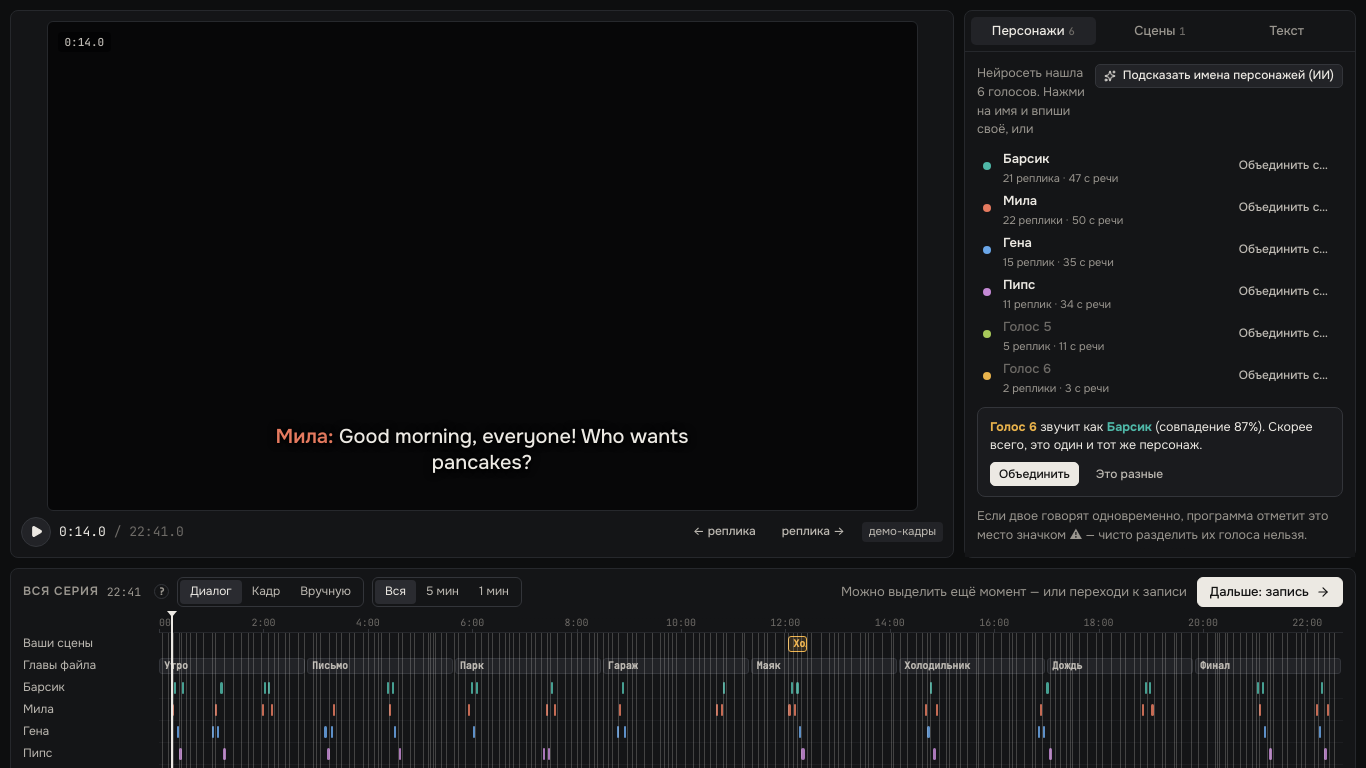
it: Разбор: создать сцену выделением › режим «Сцена» выделяет от склейки до склейки
This screenshot has width=1366, height=768.
Expected: the tab "Персонажи6" is shown, left=971, top=17, right=1096, bottom=45
Click the radio button labelled "Кадр": (266, 592) left=242, top=580, right=290, bottom=604
(page scrolled)
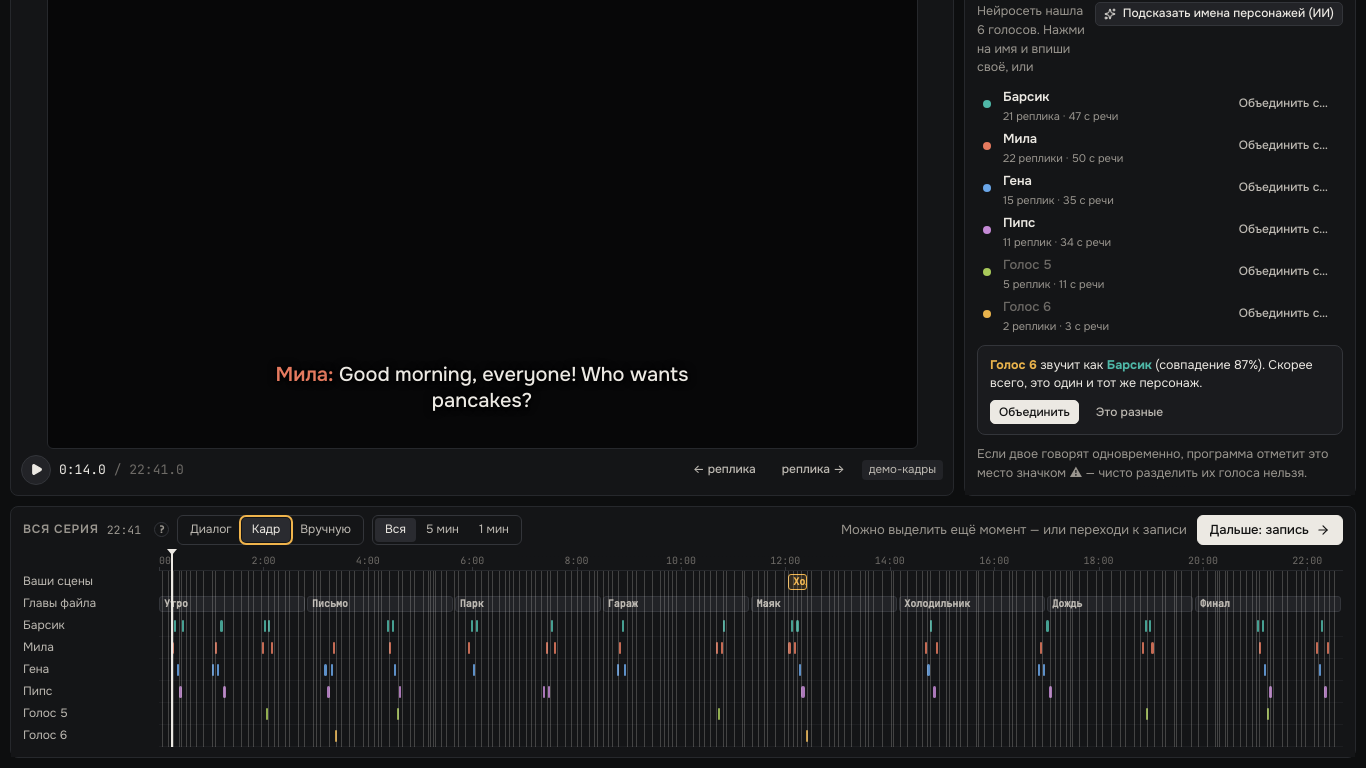
Press the mouse on the element named "Шкала видео": (751, 648) left=159, top=549, right=1343, bottom=747
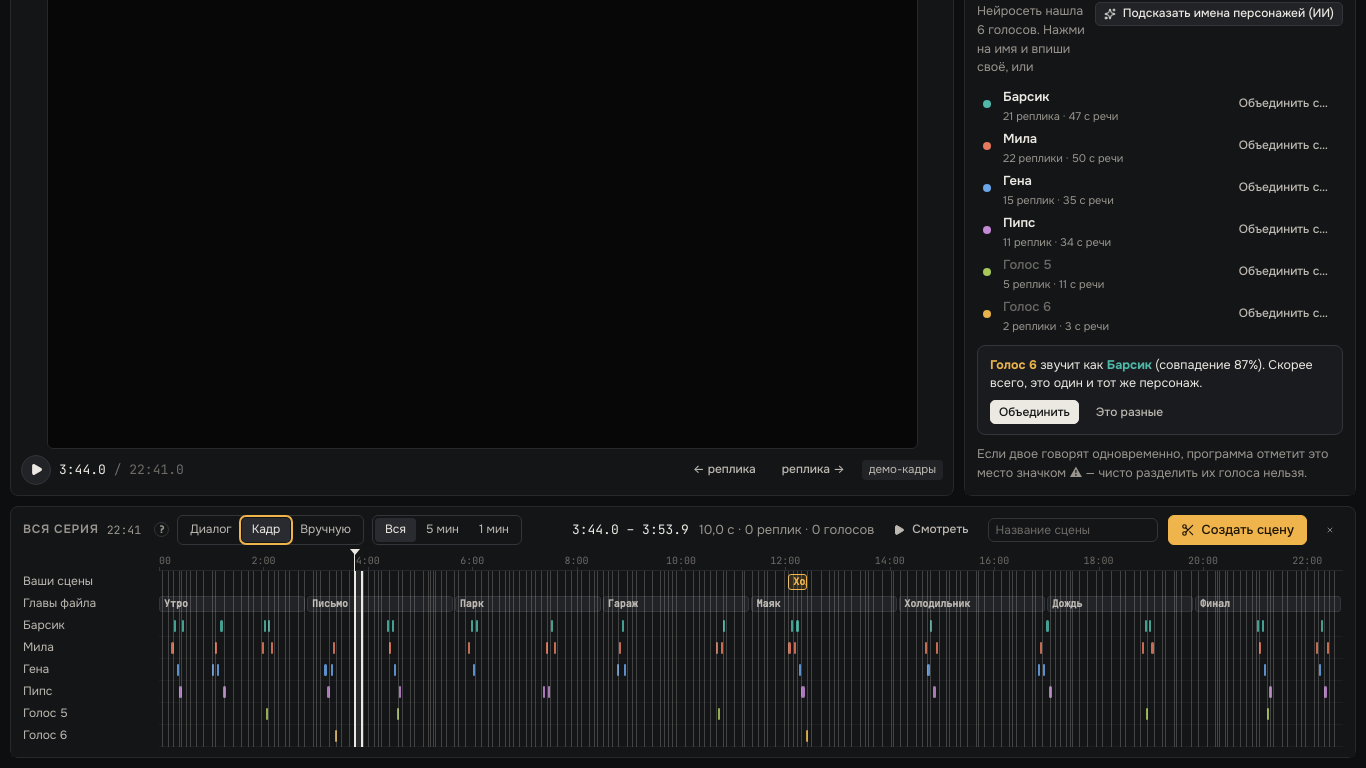
Now the button "Создать сцену" is shown, box left=1168, top=515, right=1307, bottom=545
